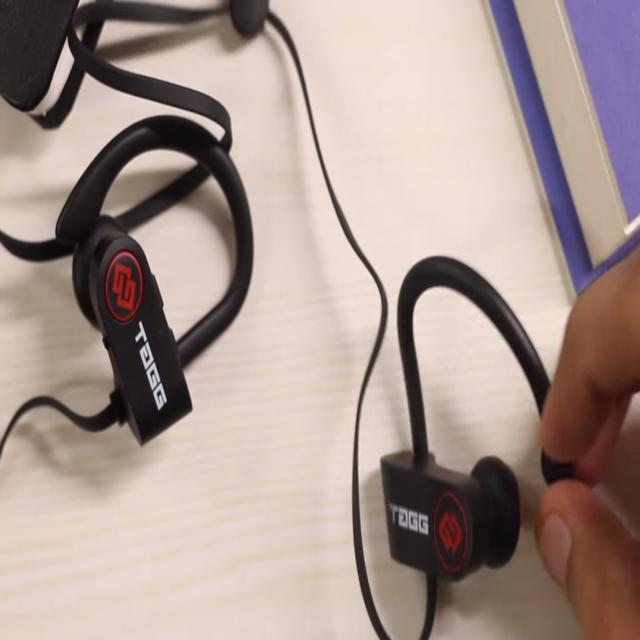Neckband: (2, 0, 575, 640)
